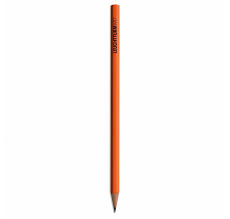Lapiz: (98, 2, 132, 214)
